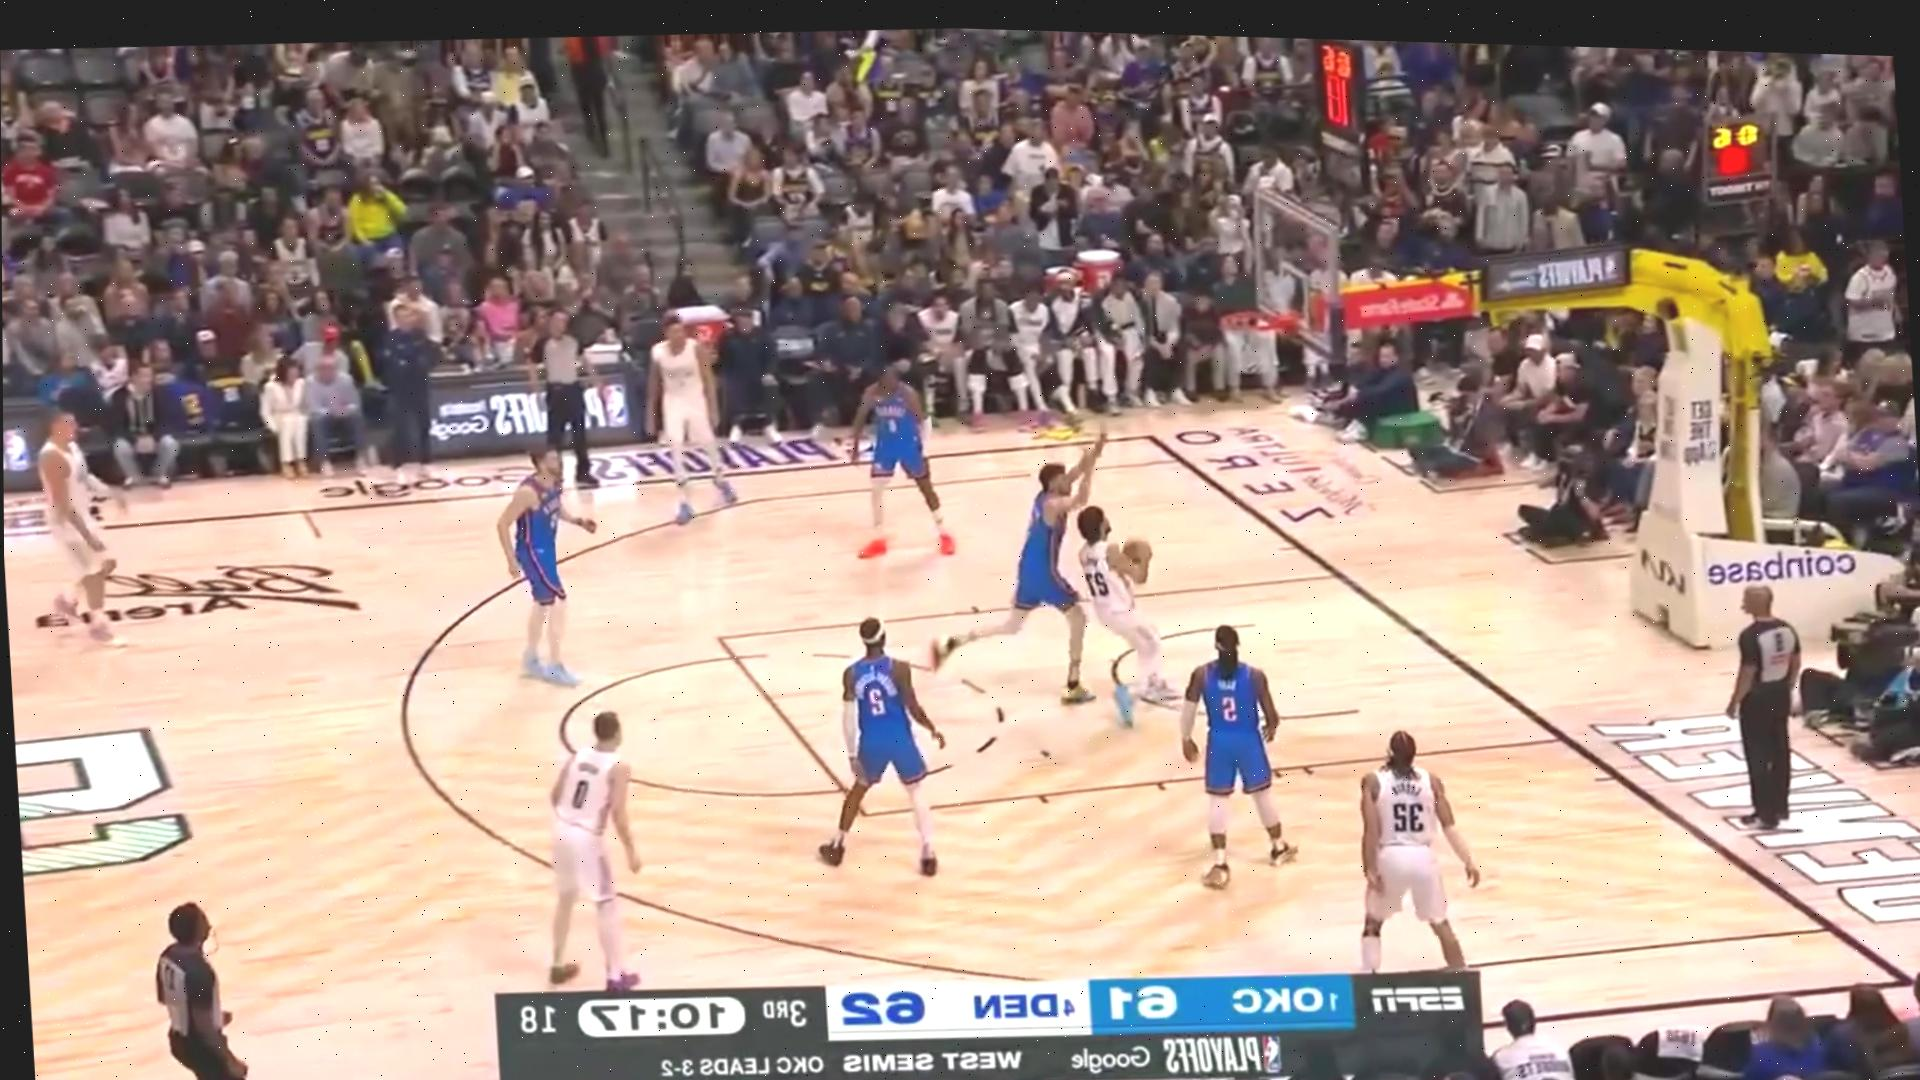no_foul: (906, 392, 1200, 741)
